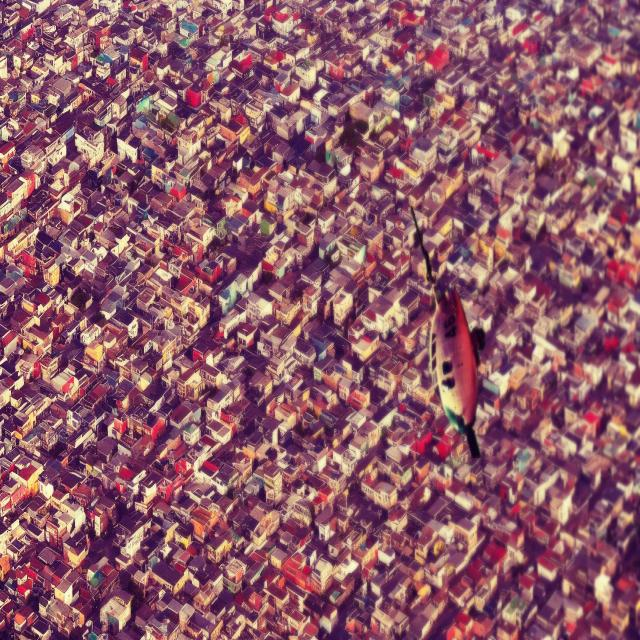airplane: (408, 204, 485, 458)
